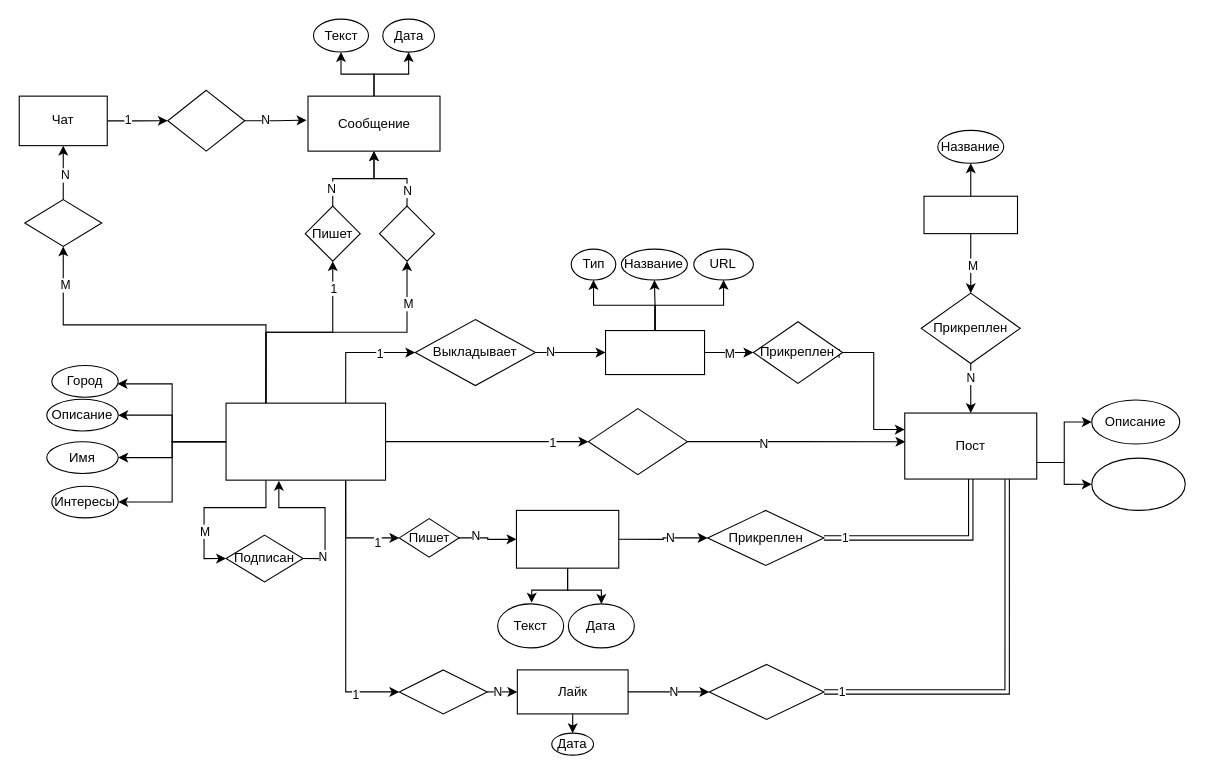
Image size: 1205x776. Some labels were removed from this diagram. The shapes that lost their labels are listed below. From the top down, each one's centre as x and y in pixels, then its label:
pixel 206 120: Содержит
pixel 63 222: Состоит
pixel 406 233: Читает
pixel 970 214: Хештег
pixel 654 352: Медиа
pixel 305 441: User
pixel 637 441: Публикует
pixel 1138 483: Кол-во просмотров
pixel 567 538: Комментарий
pixel 442 691: Нажимает
pixel 766 691: Принадлежит
